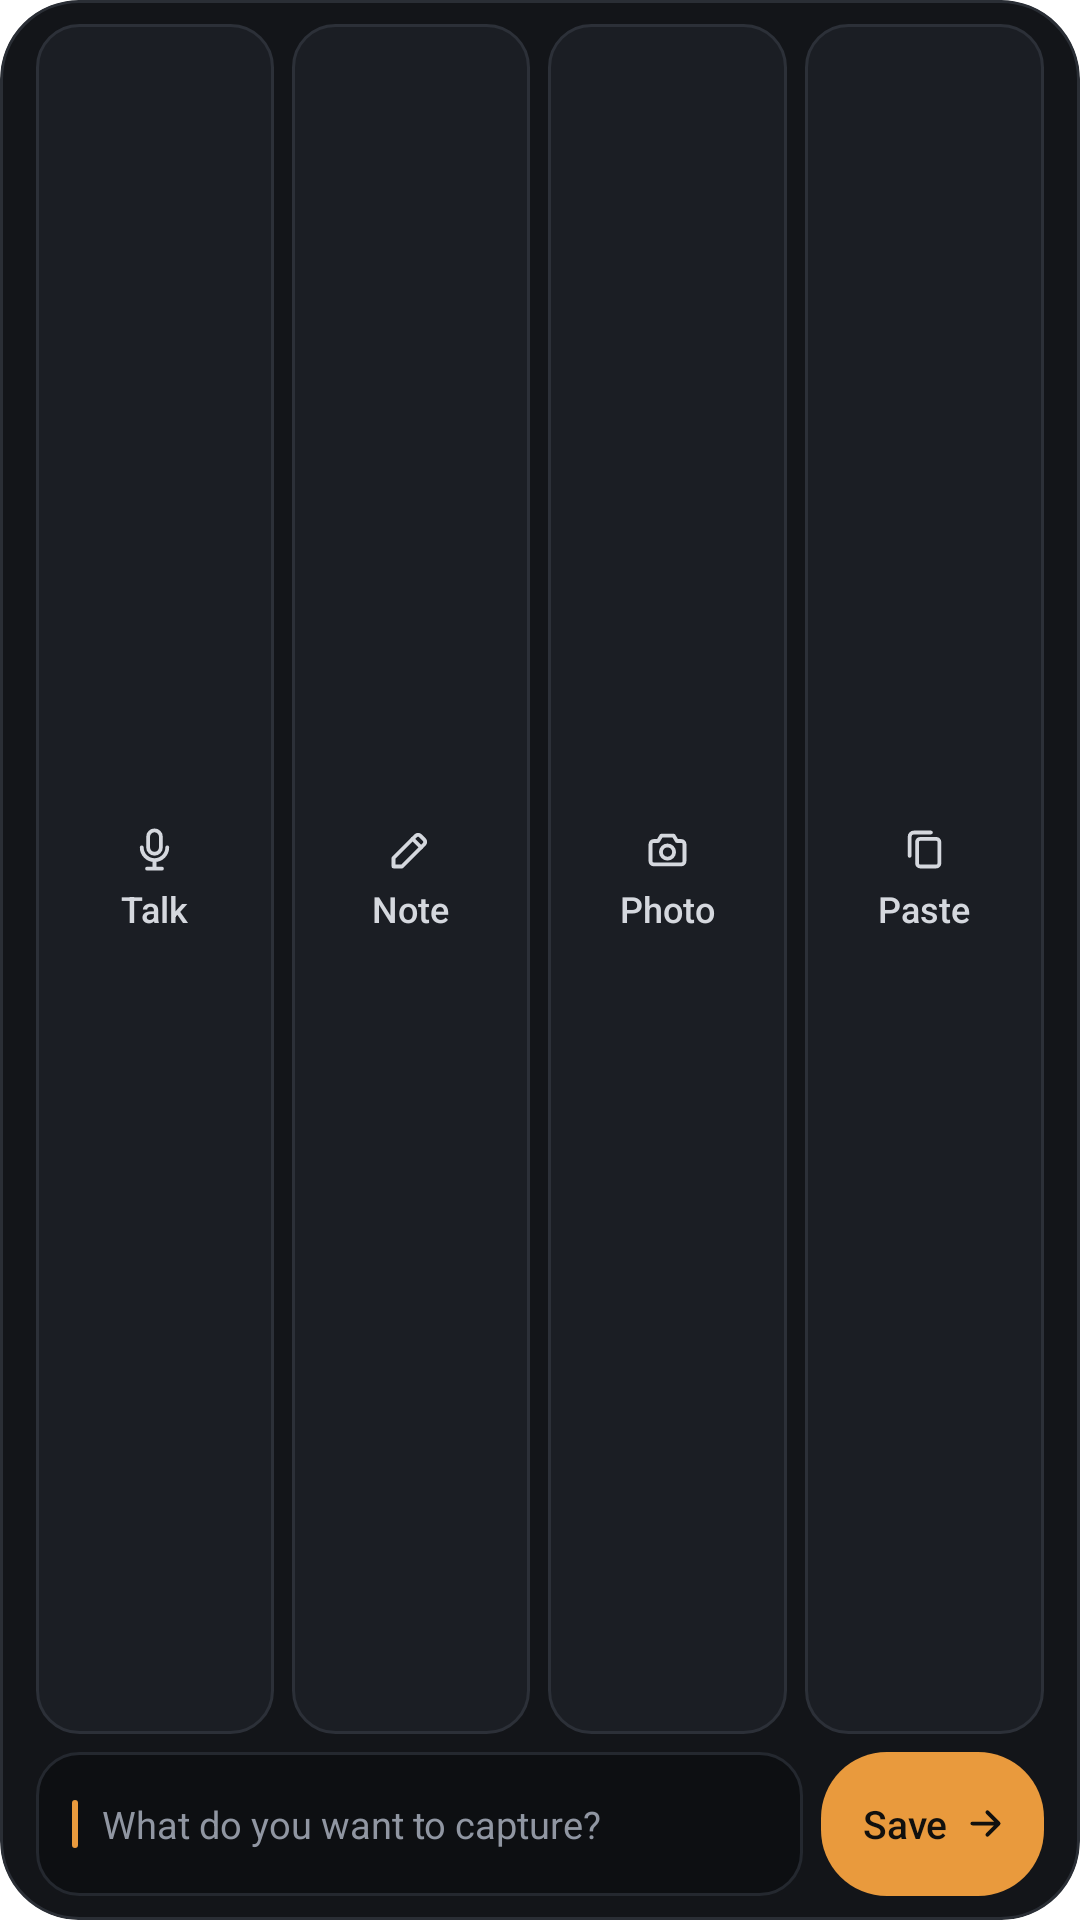

Where to tap for icons on this 1080x1920 app screen, as (x=x, y=y):
widget arrow right: (x=985, y=1823)
widget mic: (x=154, y=849)
